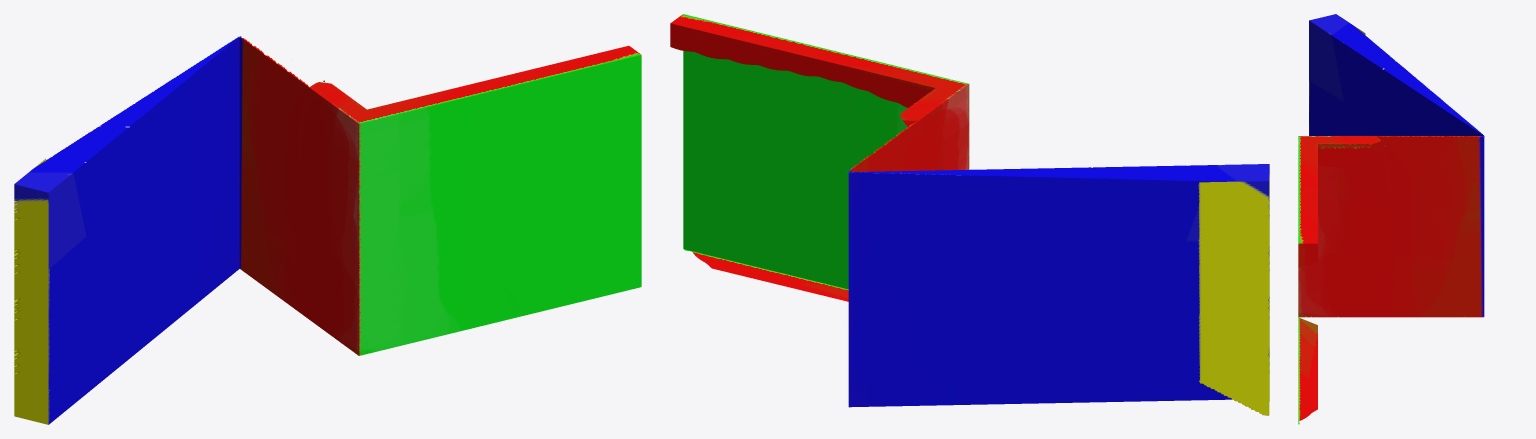
Rendered from 3walls.obj.
3 views of the same model, side by side, from view 1: azimuth 30°, elevation 25°; view 2: azimuth 150°, elevation 25°; view 3: azimuth 270°, elevation 25° (orthographic). The views are drawn at different scales.
Bounding box in the file's own units: 185 × 68 × 76.04.
Materials: 1 (1 with a texture image).
